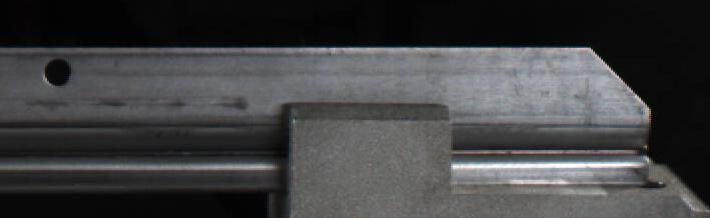cut: (473, 41, 667, 188)
holes: (42, 57, 73, 86)
